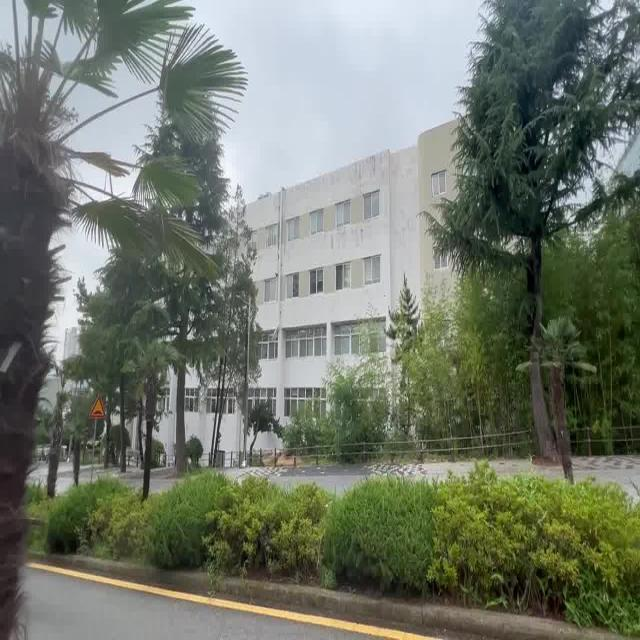building: (260, 155, 428, 333)
